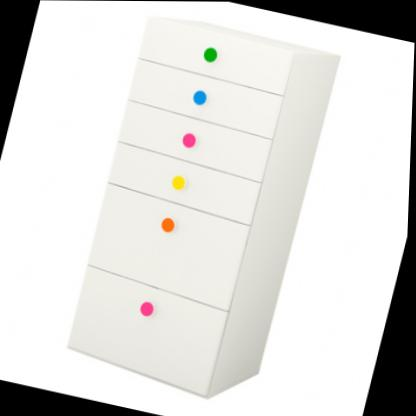Cabinet: (58, 3, 347, 410)
